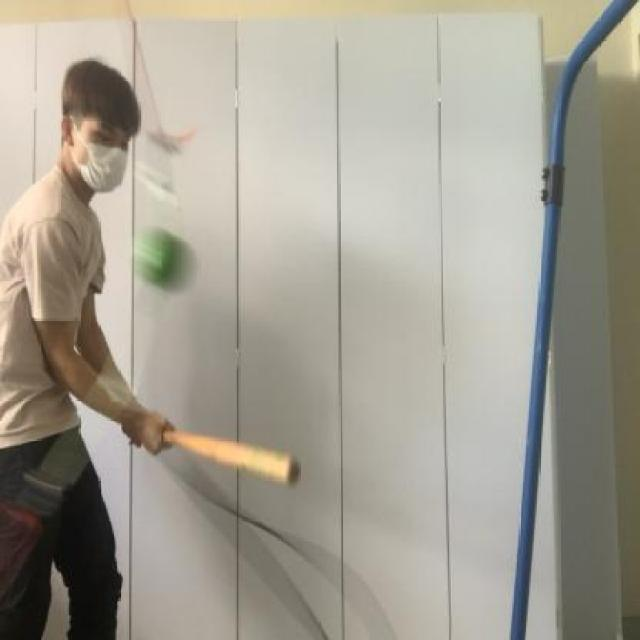baseball: (112, 219, 210, 307)
